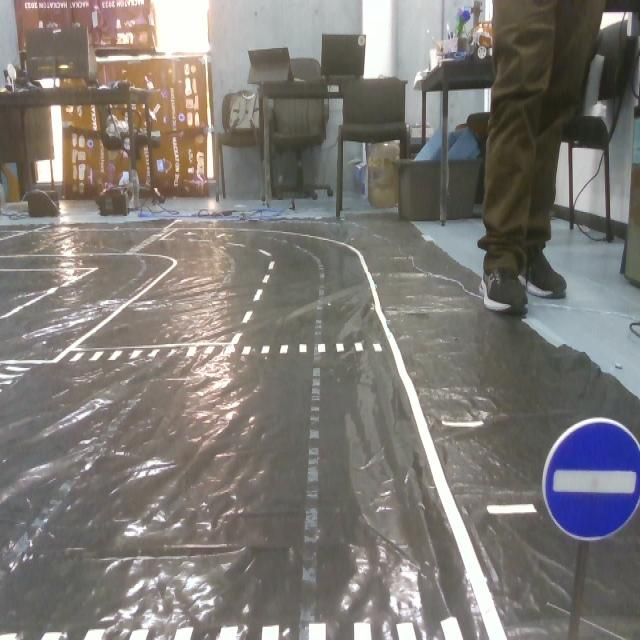dead_end: (534, 427, 640, 558)
